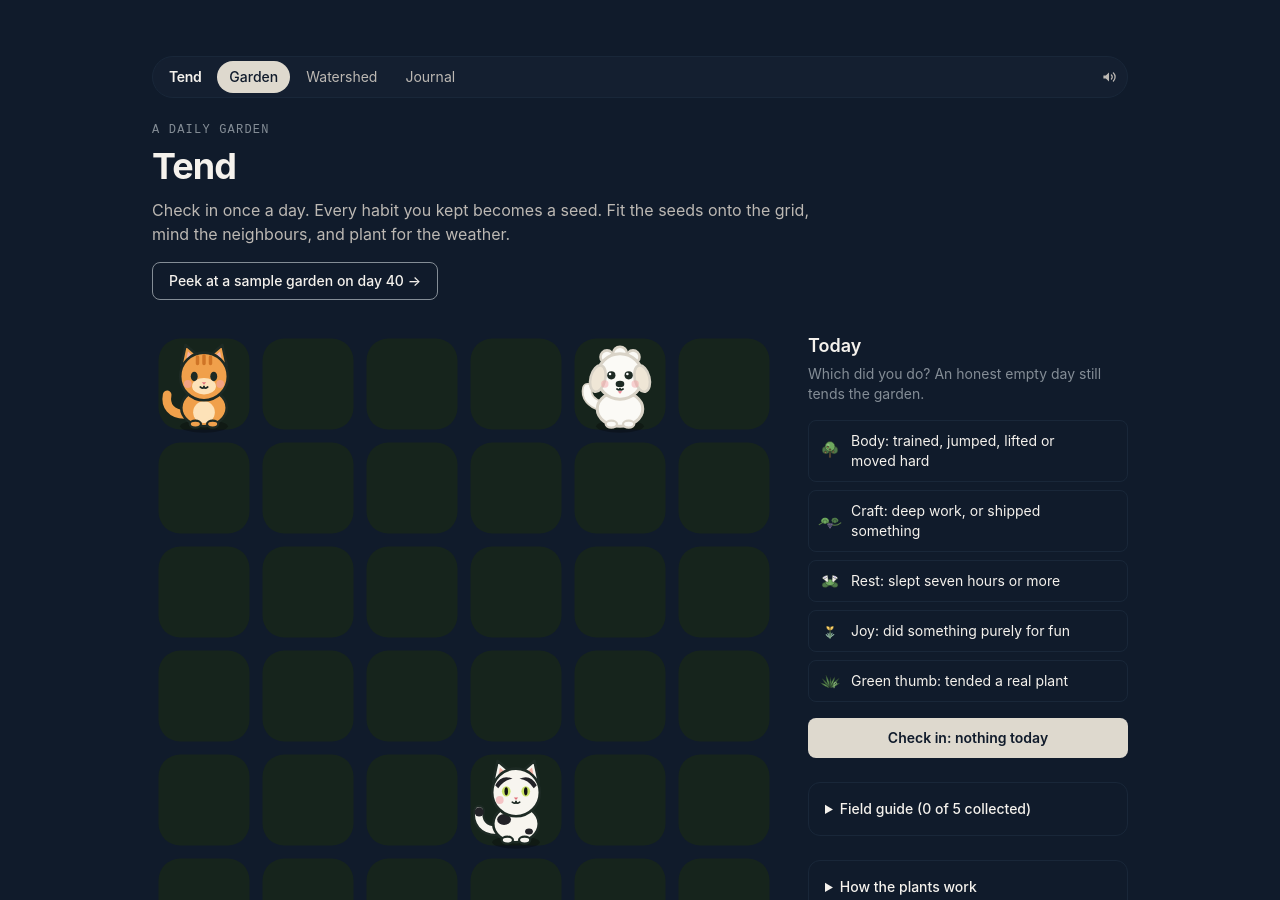
Test: Tend page › an empty check-in is allowed and leaves nothing to plant
Click the button "Check in: nothing today" at (968, 738), box [808, 718, 1128, 758]
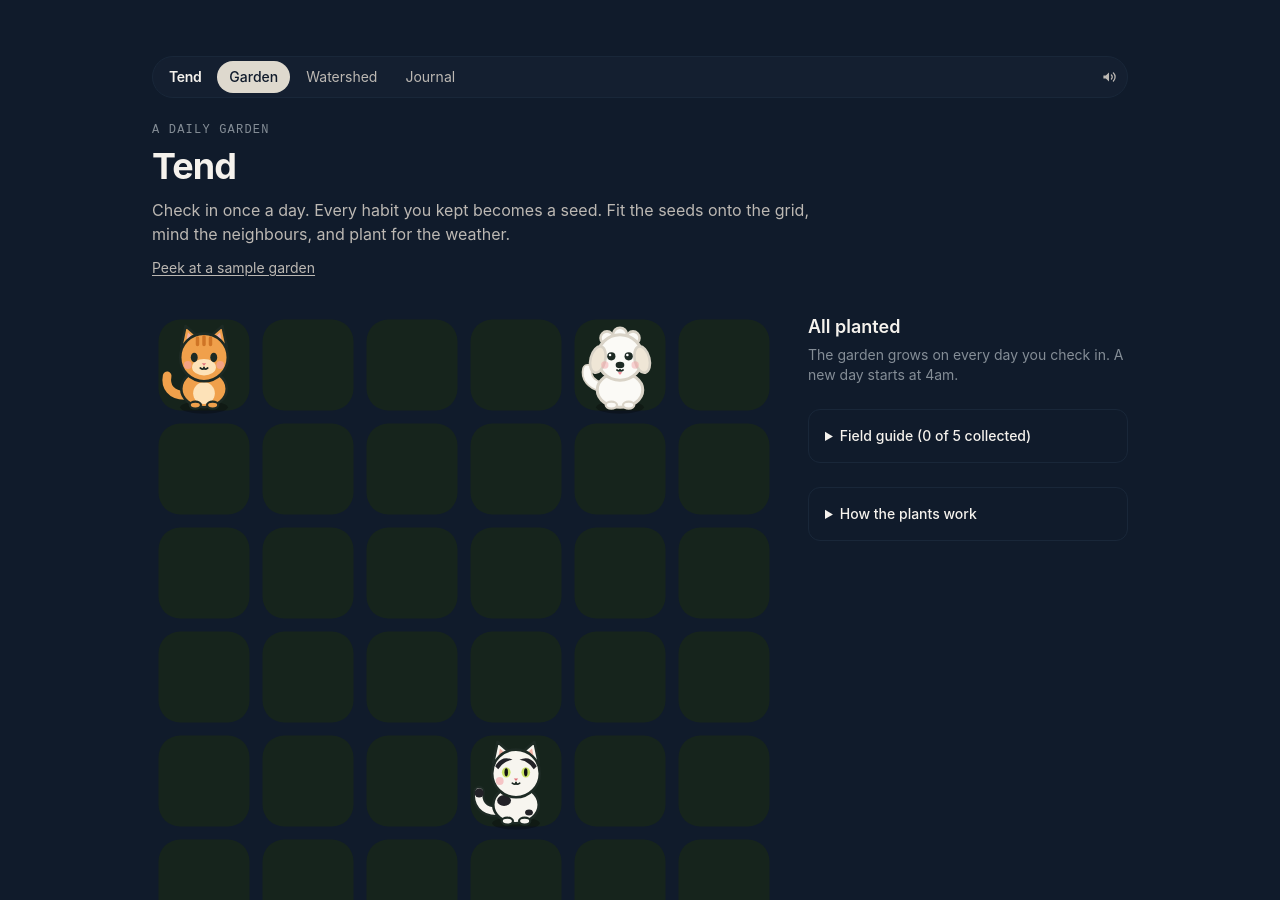
Check: the heading "All planted" is shown, box [808, 316, 900, 337]
